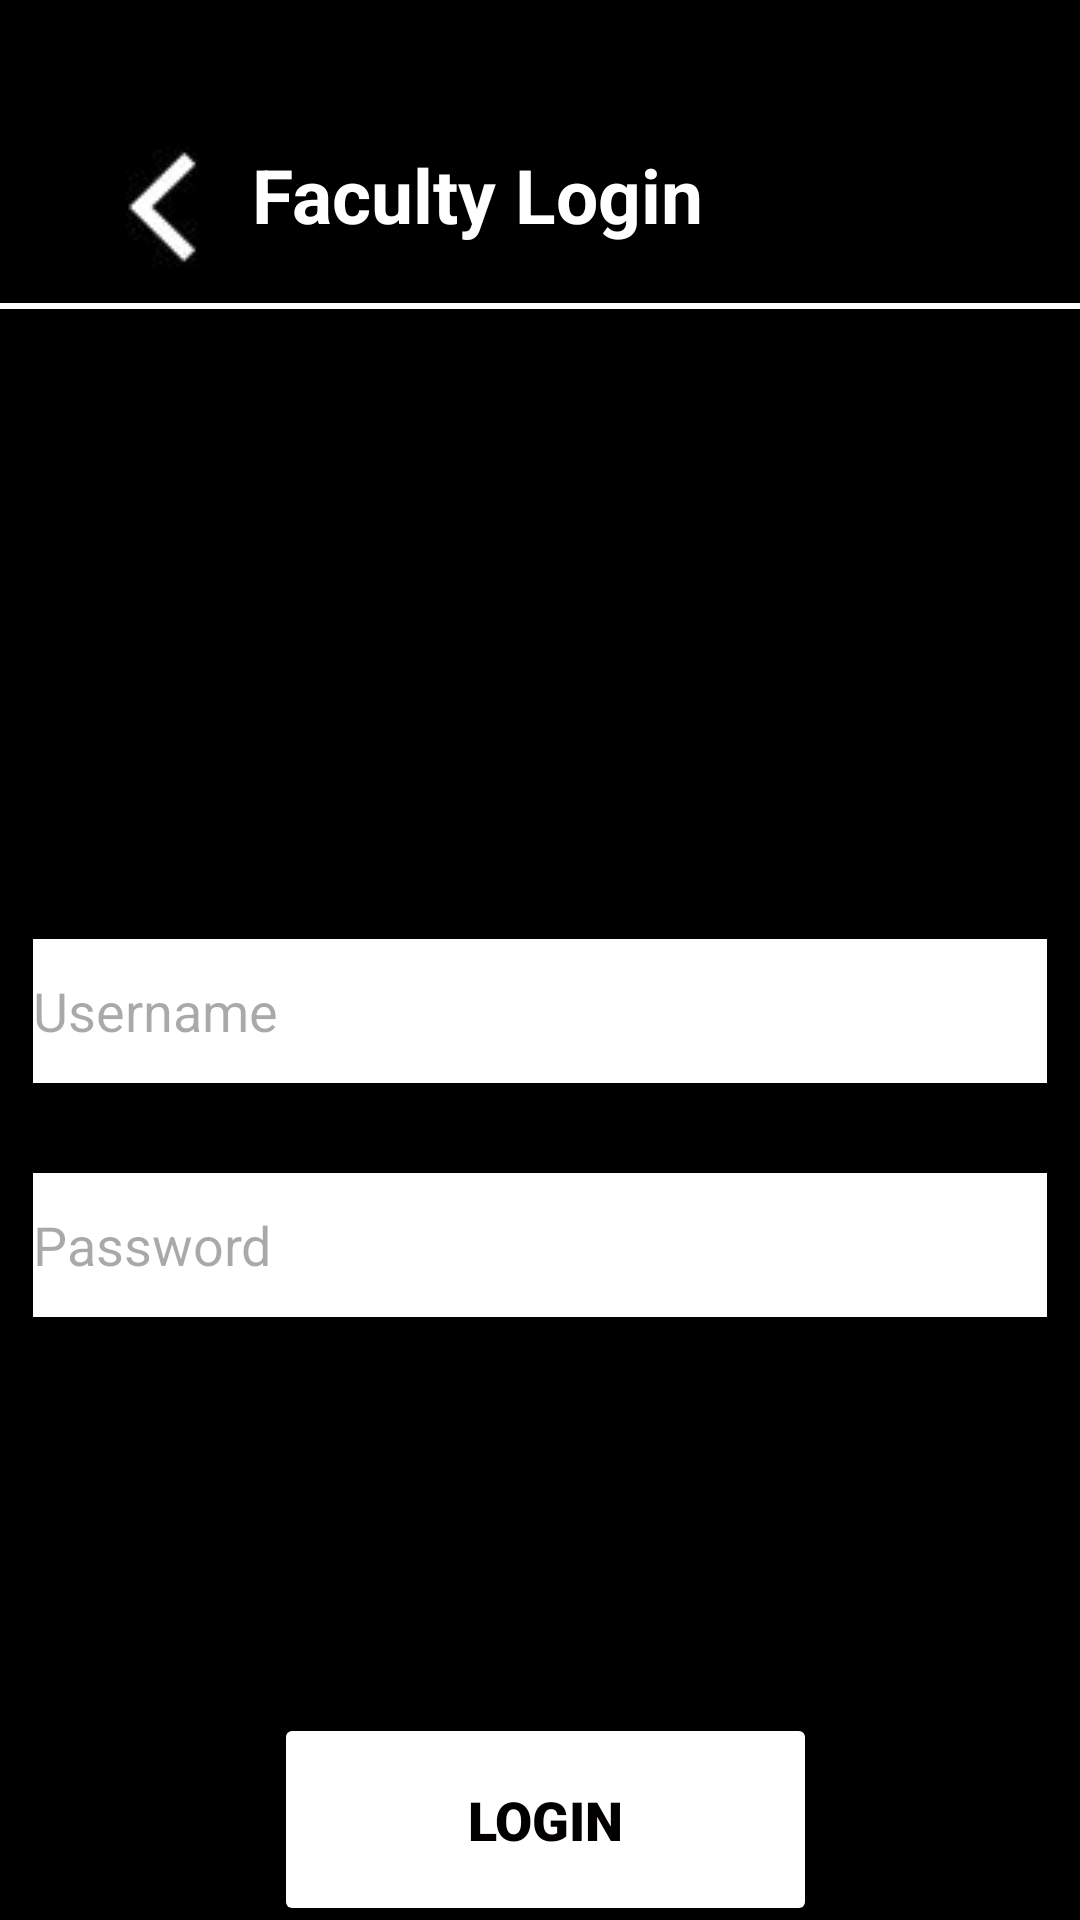

Named icons in this screenshot (1080x1920) and their bounding boxes, (x1, y1, x2, y2):
back: (128, 152, 196, 262)
